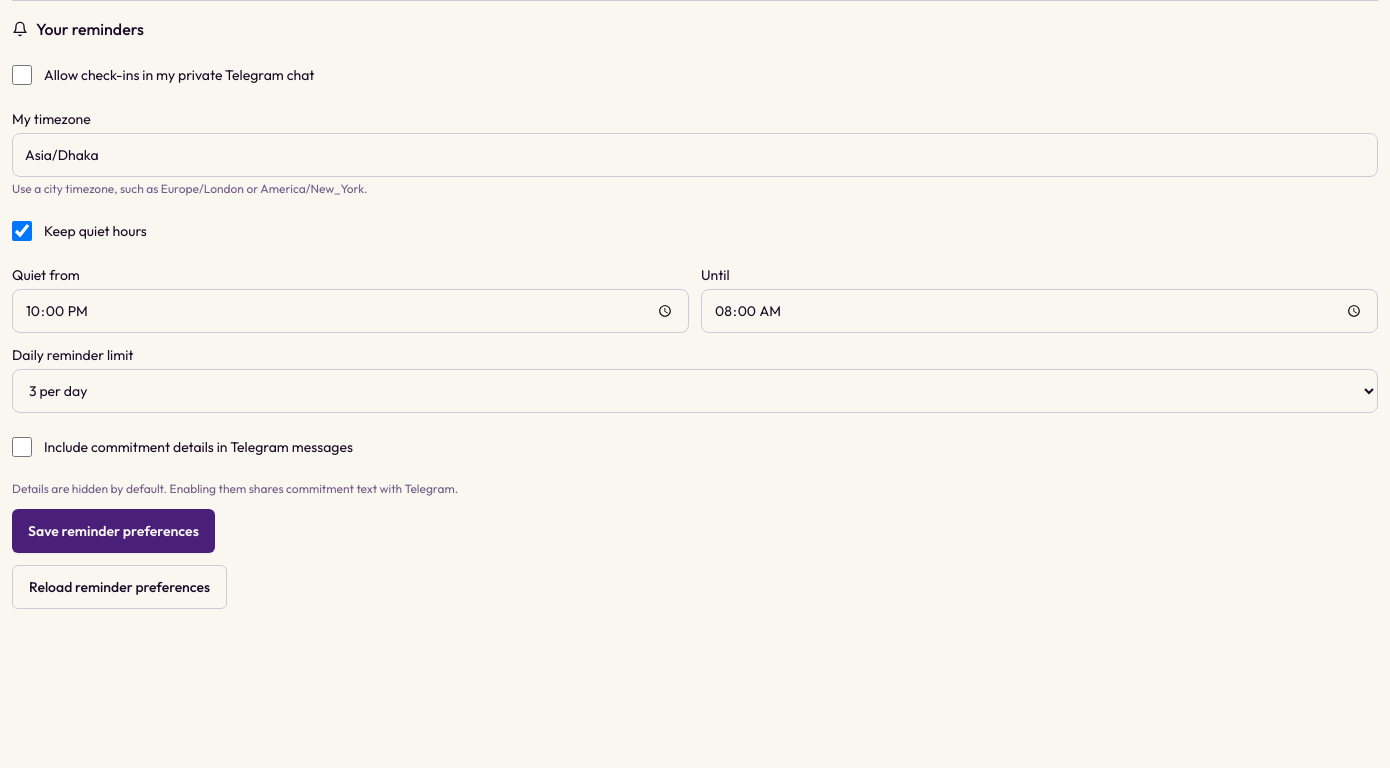
Test case: requires an explicit preference save and keeps details opt-in
Expected: the checkbox labelled "Include commitment details in Telegram messages" is not checked, 12,437 -> 32,457
Click the checkbox labelled "Allow check-ins in my private Telegram chat" at (22, 75), box 12,65 -> 32,85
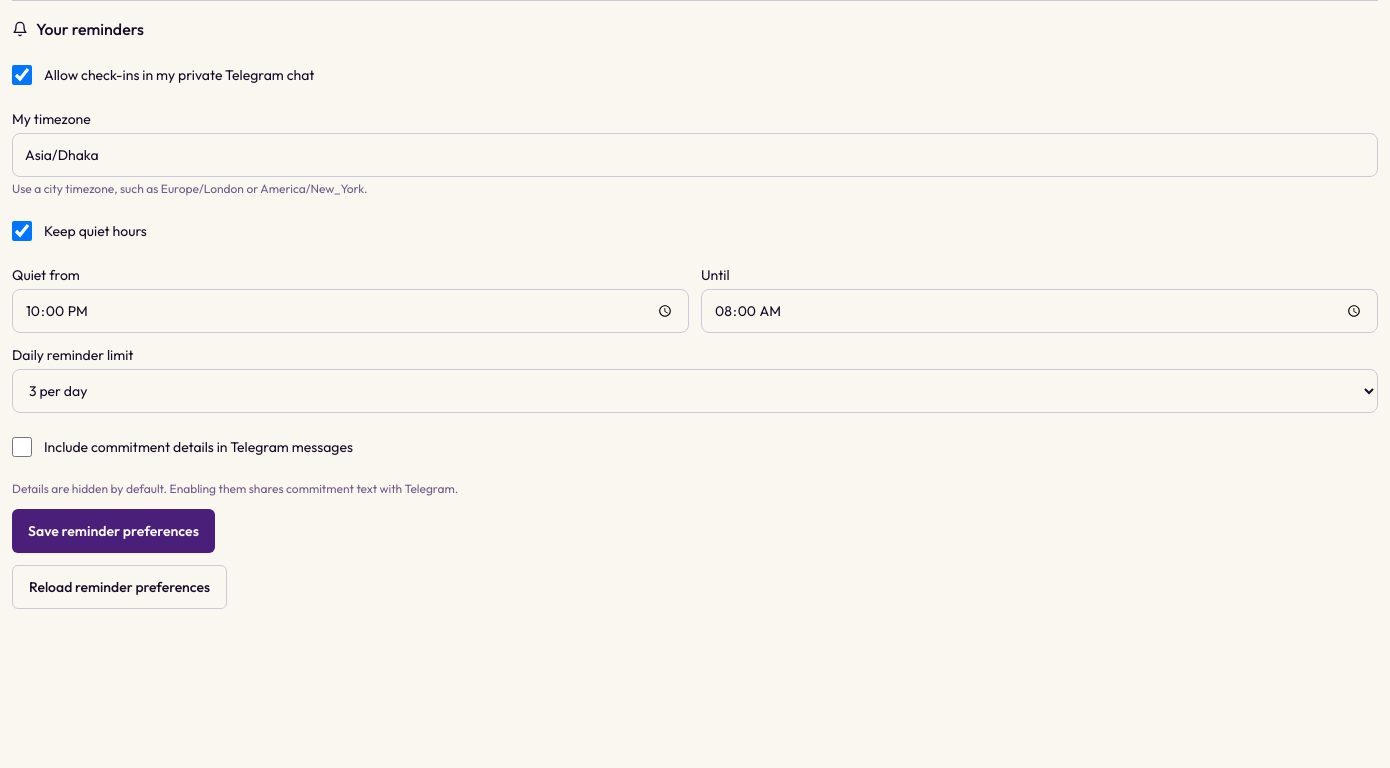
Click the button "Save reminder preferences" at (113, 531), box 12,509 -> 215,553
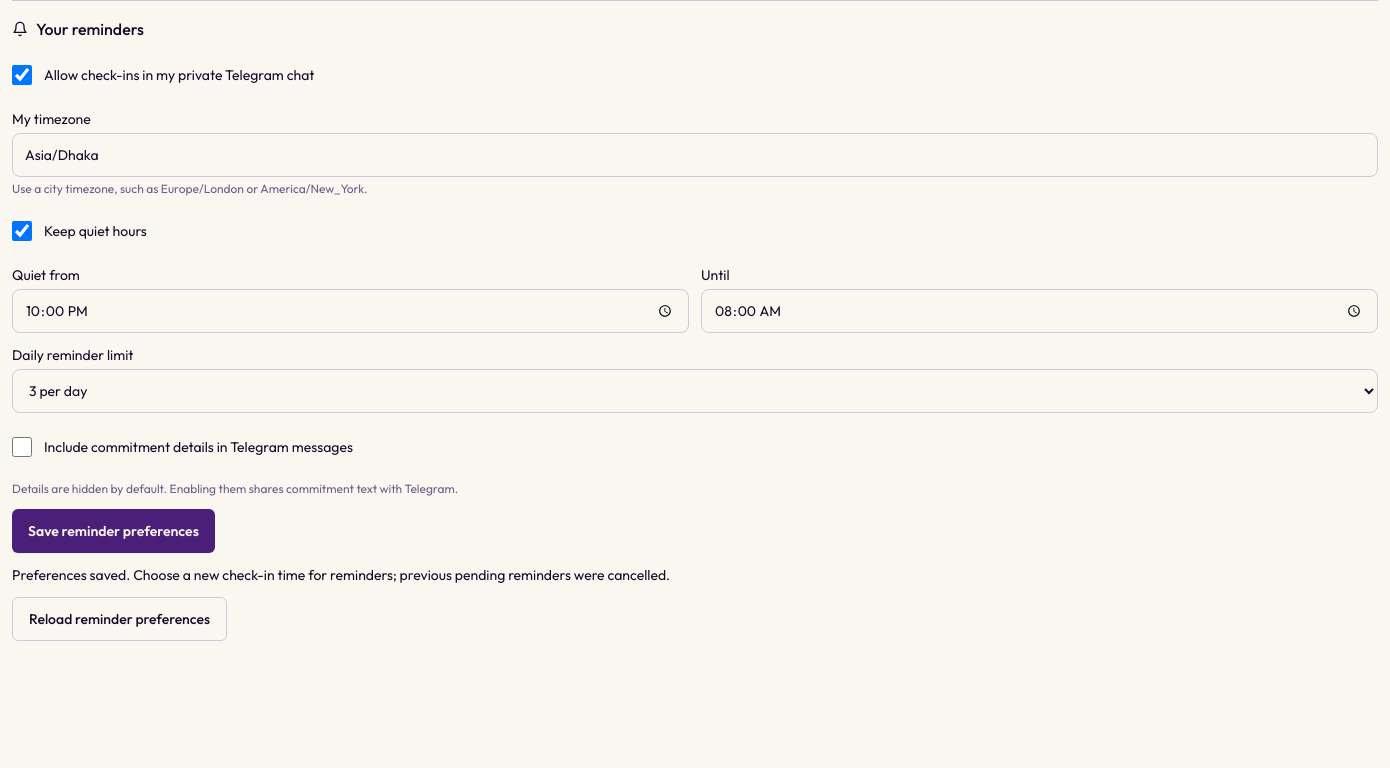
Now the message shows "previous pending reminders were cancelled", box 12,566 -> 670,584
